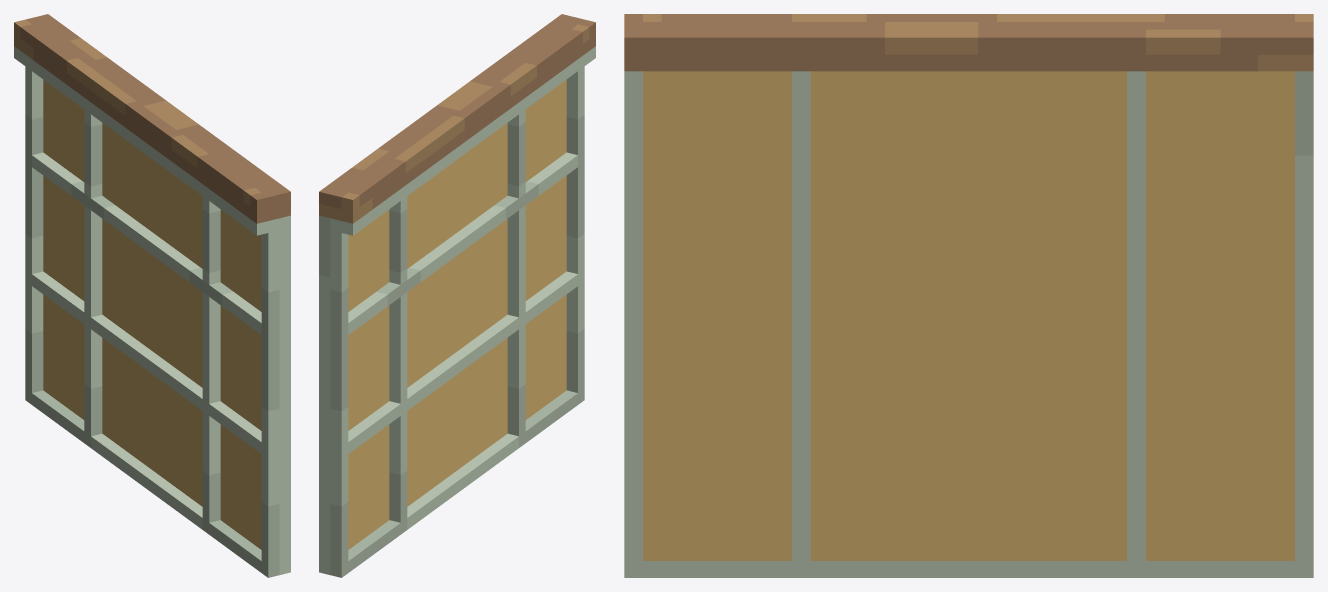
Rendered from House Interior Rooms - Free Sample-2.obj.
The picture shows the model from 3 angles, left to right: view 1: azimuth 30°, elevation 25°; view 2: azimuth 150°, elevation 25°; view 3: azimuth 270°, elevation 25°; orthographic projection. The views are drawn at different scales.
Size of the model in its own units: 0.06 by 0.64 by 0.74.
Materials: 1 (1 with a texture image).
